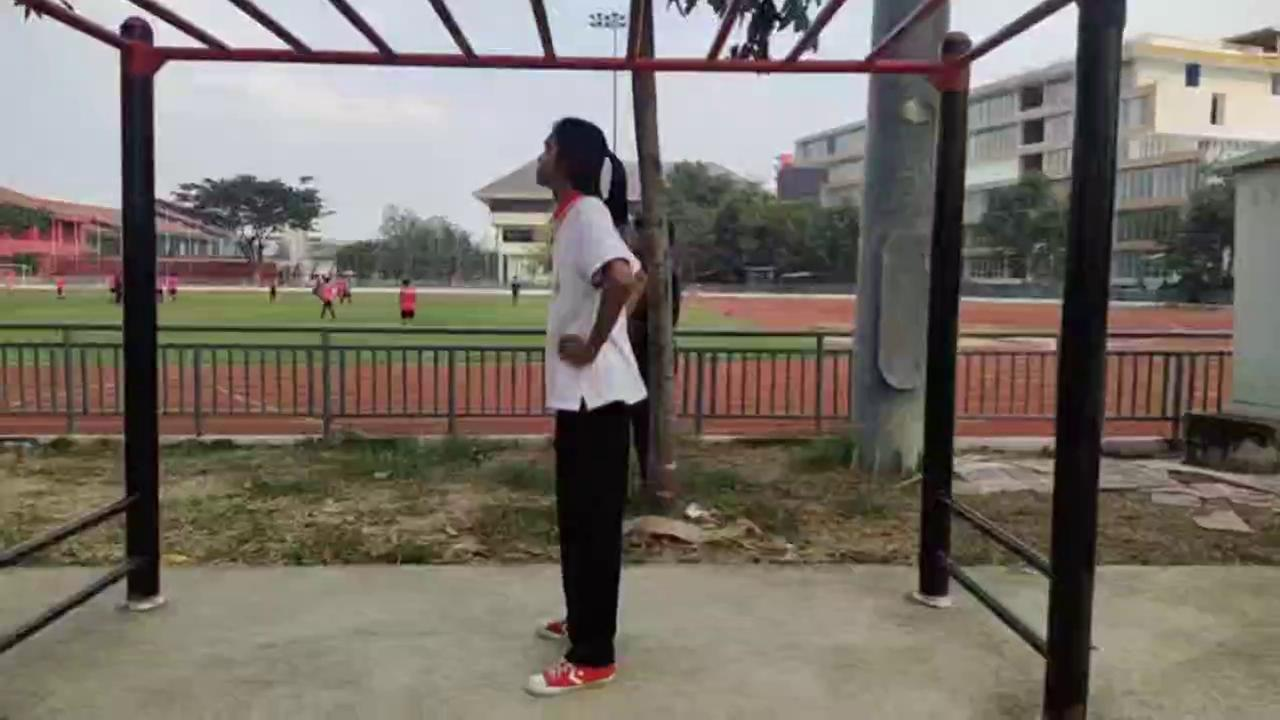squat up: (528, 120, 650, 691)
